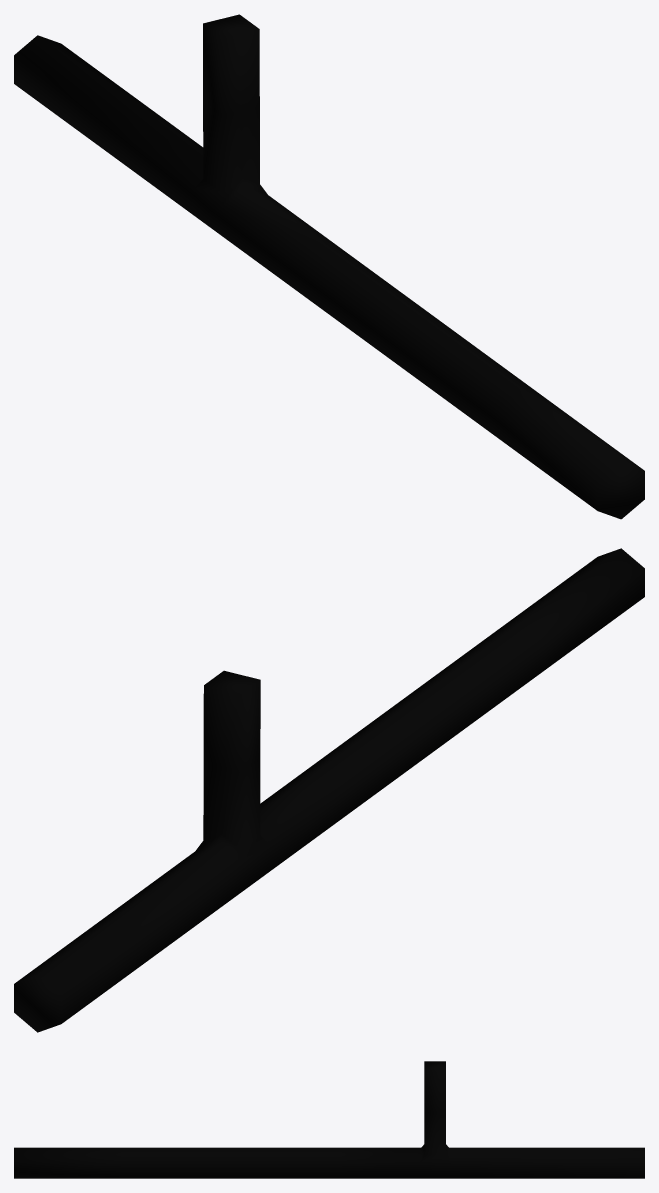
The model's file is char_012_weapon_02_club_police_01_FBX.fbx.
3 views of the same model, one above another, from view 1: azimuth 30°, elevation 25°; view 2: azimuth 150°, elevation 25°; view 3: azimuth 270°, elevation 25° (orthographic). The views are drawn at different scales.
Parts seen in each view (by area): view 1: weapon_police_club_01; view 2: weapon_police_club_01; view 3: weapon_police_club_01.
Boxes of the visible parts, <box> form: weapon_police_club_01: <box>14,14,644,519</box>; weapon_police_club_01: <box>14,548,644,1032</box>; weapon_police_club_01: <box>14,1061,644,1178</box>.
Bounding box in the file's own units: 0.1073 × 0.4502 × 2.29.
Materials: 1 (1 with a texture image).
